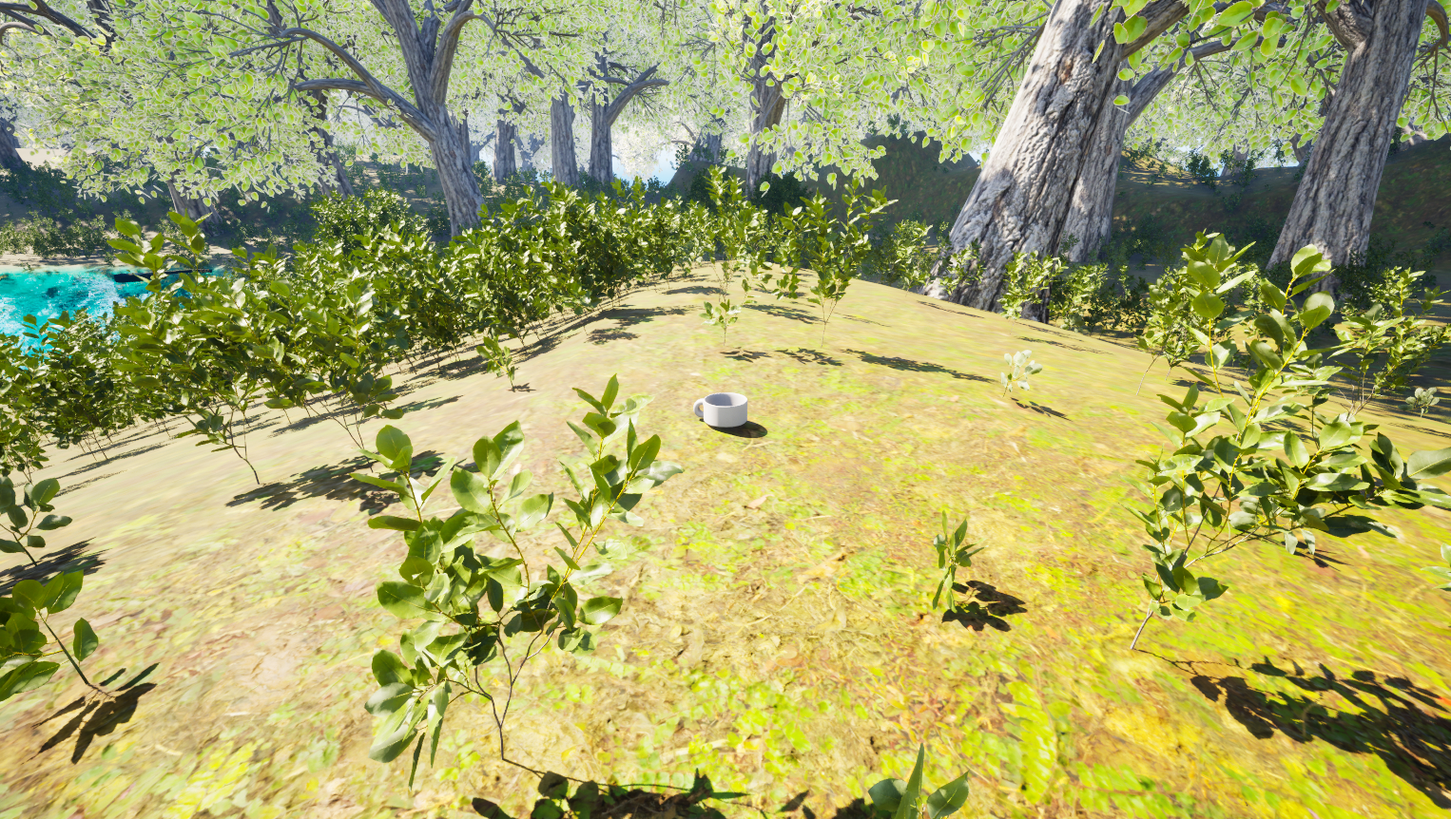Teacup: (690, 388, 756, 431)
